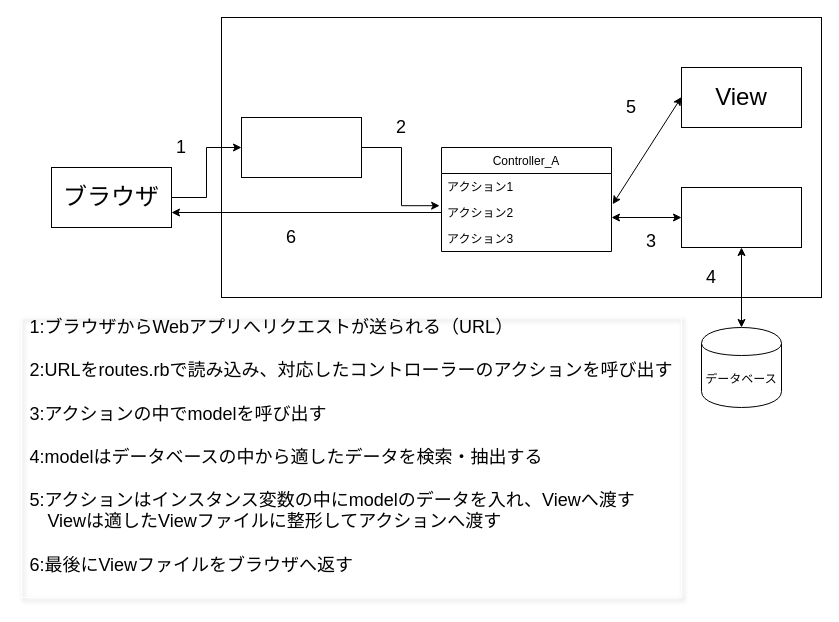
Some shapes in this 839 by 622 pixel diagram are drawn without their labels. The centre of each missing label's shape, as x and y in pixels:
"Model" belongs at (741,217).
"route.rb" belongs at (301,147).
